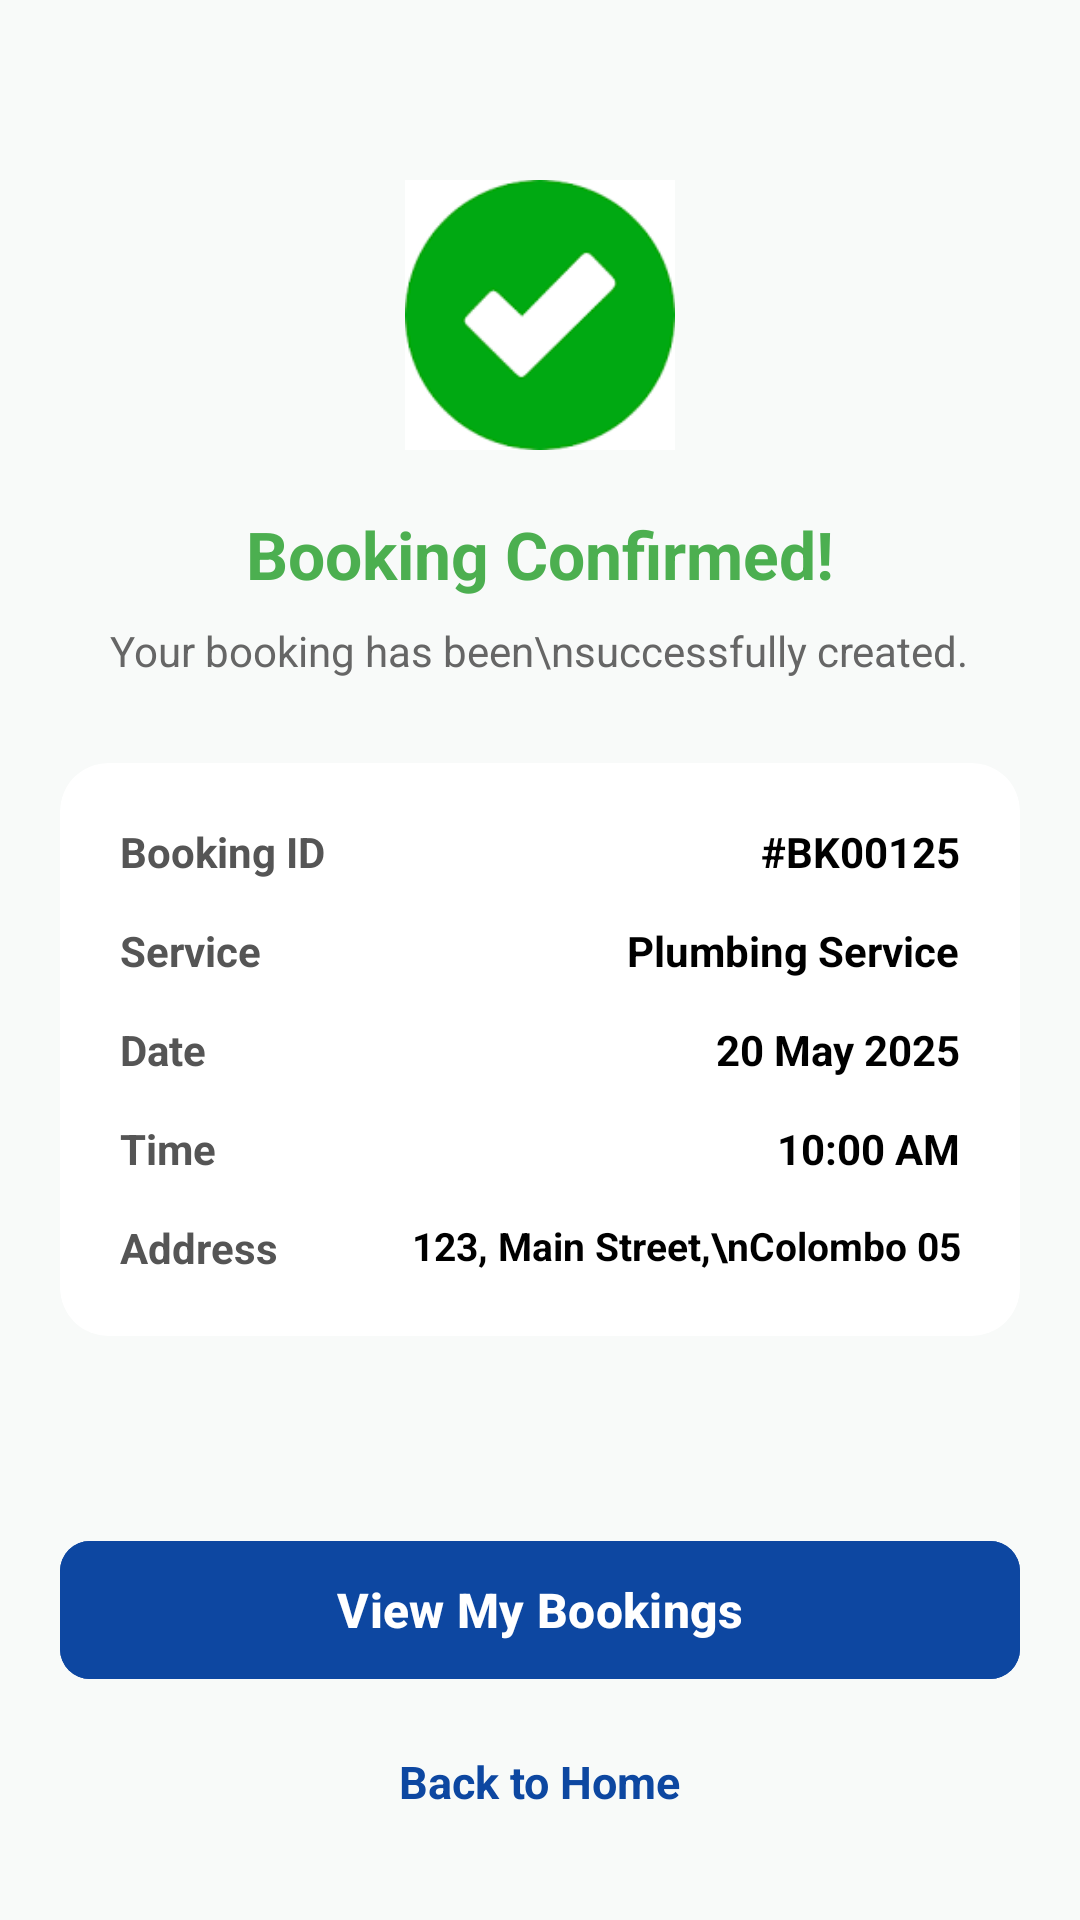

Locate icon controls on the screen. Image size 1080 x 1920, boxes as (x1, y1, x2, y2).
Success Icon: (405, 180, 675, 450)
